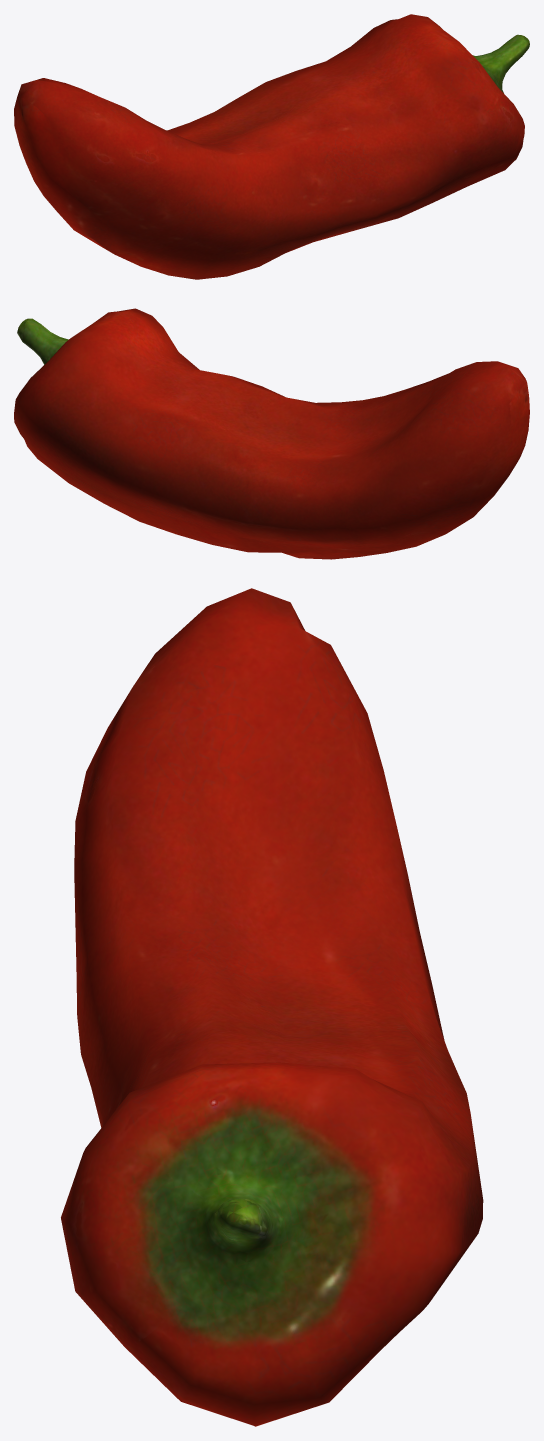
Rendered from redpepper.glb.
The picture shows the model from 3 angles, top to bottom: view 1: azimuth 30°, elevation 25°; view 2: azimuth 150°, elevation 25°; view 3: azimuth 270°, elevation 25°; orthographic projection. The views are drawn at different scales.
Parts seen in each view (by area): view 1: Cube; view 2: Cube; view 3: Cube.
Part boxes in pixels (box(x1,y1,x2,y2)): Cube: box(14, 14, 529, 279); Cube: box(14, 308, 529, 559); Cube: box(61, 588, 483, 1426).
Bounding box in the file's own units: 2.99 × 1.35 × 1.08.
1 material, 1 textured.
